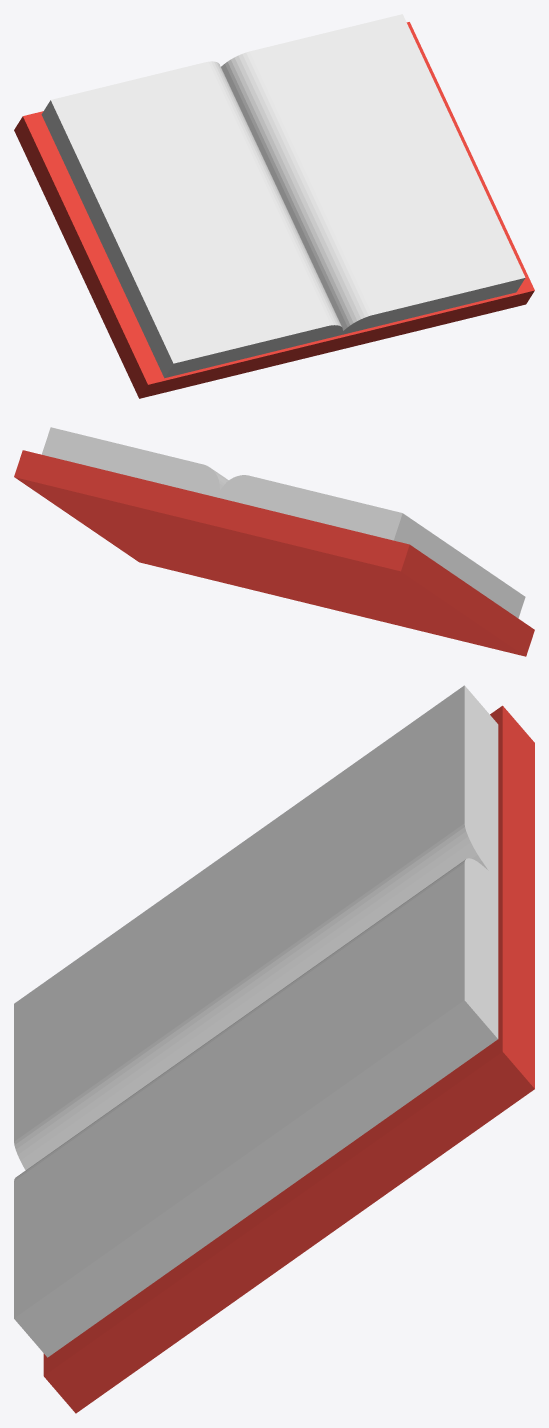
Rendered from book.glb.
3 views of the same model, one above another, from view 1: azimuth 30°, elevation 25°; view 2: azimuth 150°, elevation 25°; view 3: azimuth 270°, elevation 25° (orthographic). The views are drawn at different scales.
Visible parts, largest first — view 1: book; view 2: book; view 3: book.
Boxes of the visible parts, x1=… form: book: x1=14, y1=14, x2=534, y2=398; book: x1=14, y1=427, x2=534, y2=656; book: x1=14, y1=685, x2=534, y2=1413.
Bounding box in the file's own units: 2.54 × 1.36 × 1.61.
